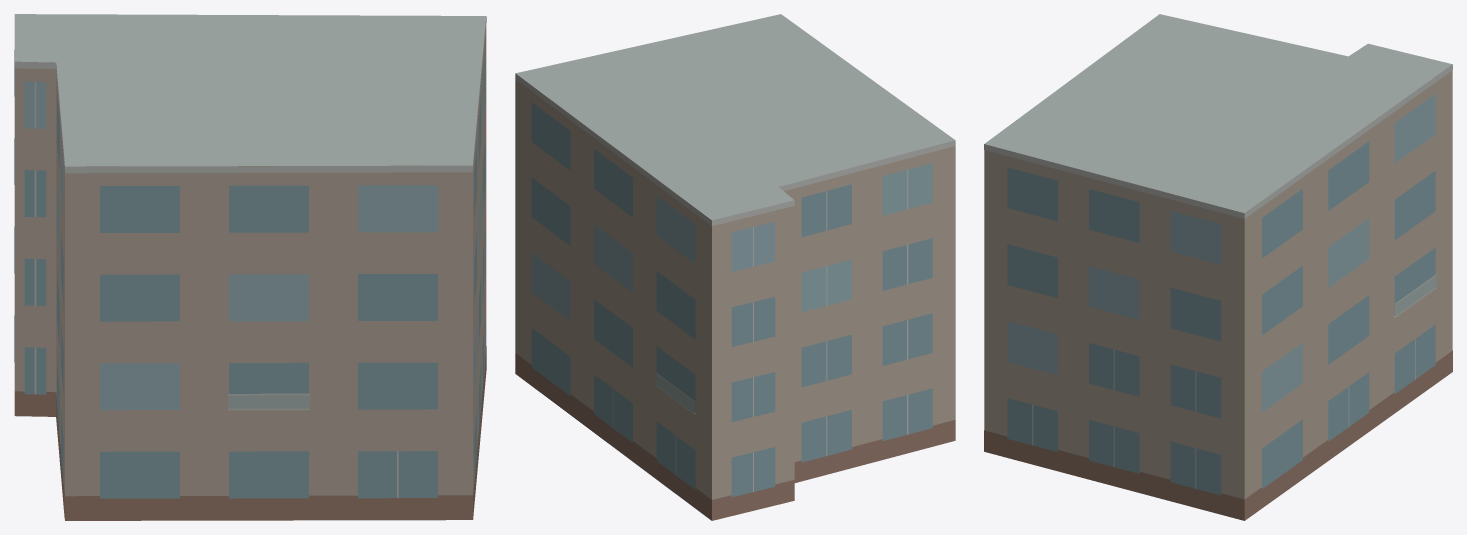
The model's file is survey-upis-32981945.glb.
The picture shows the model from 3 angles, left to right: view 1: azimuth 30°, elevation 25°; view 2: azimuth 150°, elevation 25°; view 3: azimuth 270°, elevation 25°; orthographic projection. The views are drawn at different scales.
Visible parts, largest first — view 1: survey-upis-32981945.tmp; view 2: survey-upis-32981945.tmp; view 3: survey-upis-32981945.tmp.
Boxes of the visible parts, x1,y1,x2,y2 form: survey-upis-32981945.tmp: (14, 14, 486, 520); survey-upis-32981945.tmp: (515, 14, 955, 520); survey-upis-32981945.tmp: (984, 14, 1452, 520).
Size of the model in its own units: 17.93 by 12.9 by 17.82.
